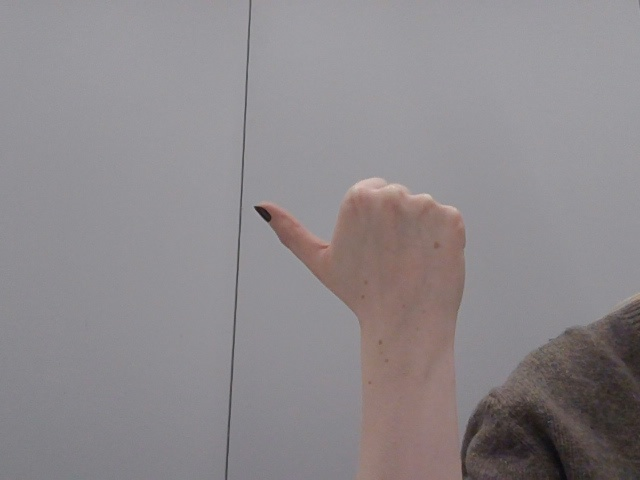right: (247, 169, 494, 328)
